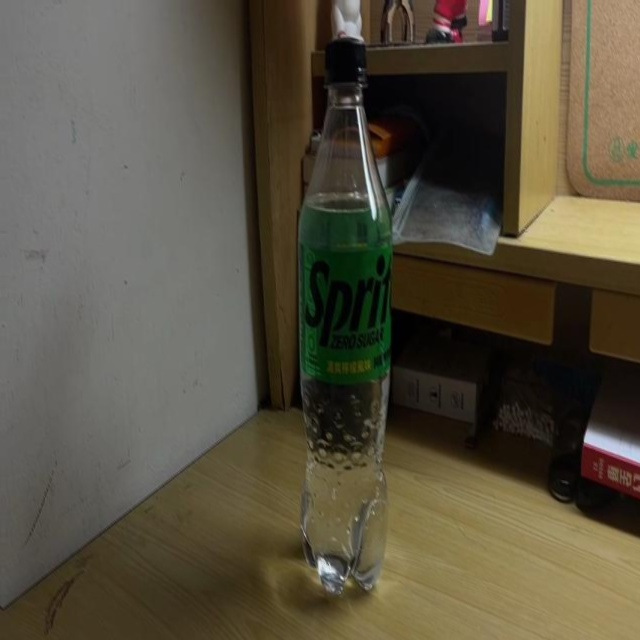Sprite: (296, 34, 386, 596)
